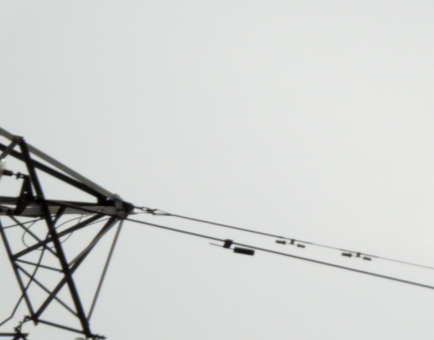damper: (339, 249, 373, 262), (273, 236, 306, 248)
damper_defect: (207, 237, 256, 256)
